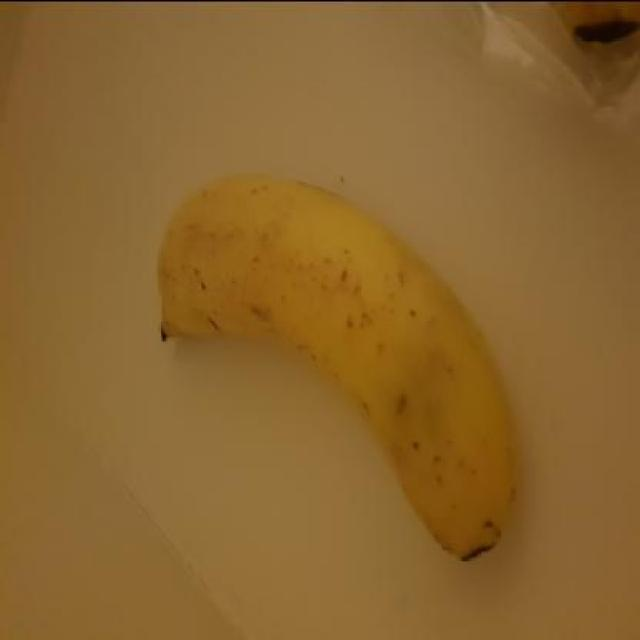Banana: (142, 165, 524, 567)
